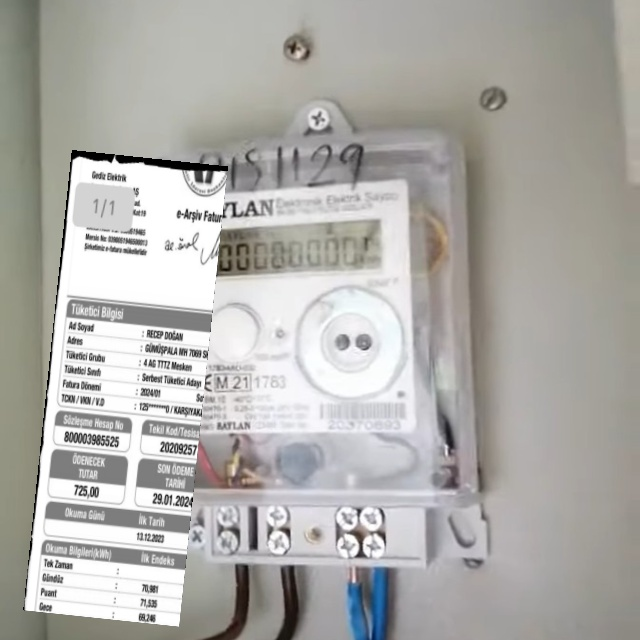electricity-bill: (22, 149, 227, 627)
